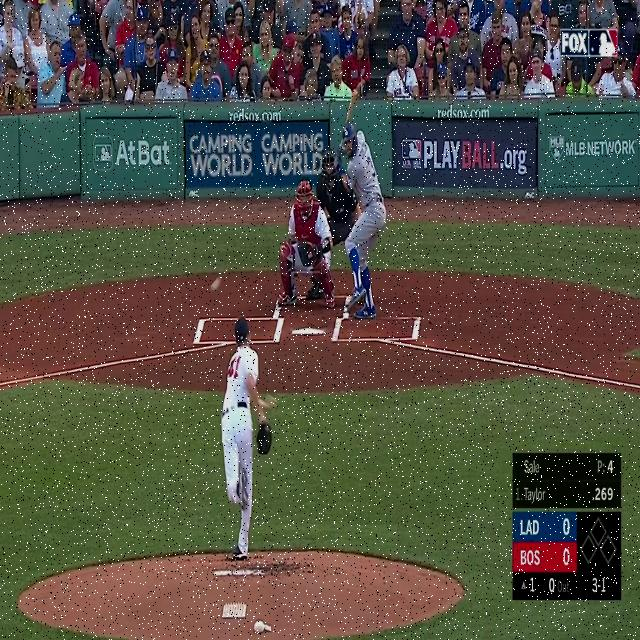baseball: (210, 275, 221, 292)
